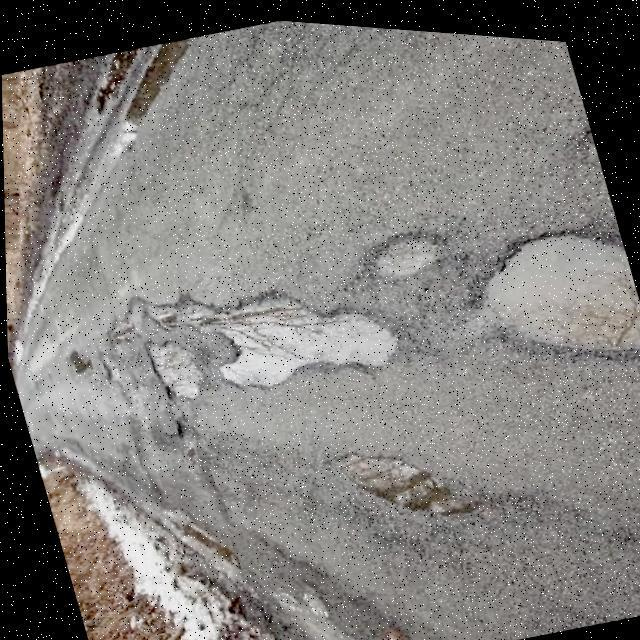pothole: (134, 232, 408, 424), (451, 196, 640, 385), (327, 412, 488, 540), (348, 210, 457, 290), (136, 324, 211, 407)
